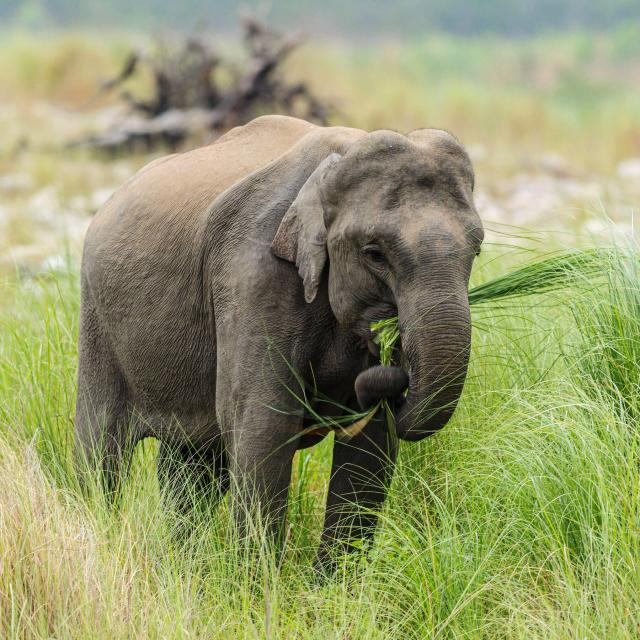Elephant: (68, 116, 488, 573)
